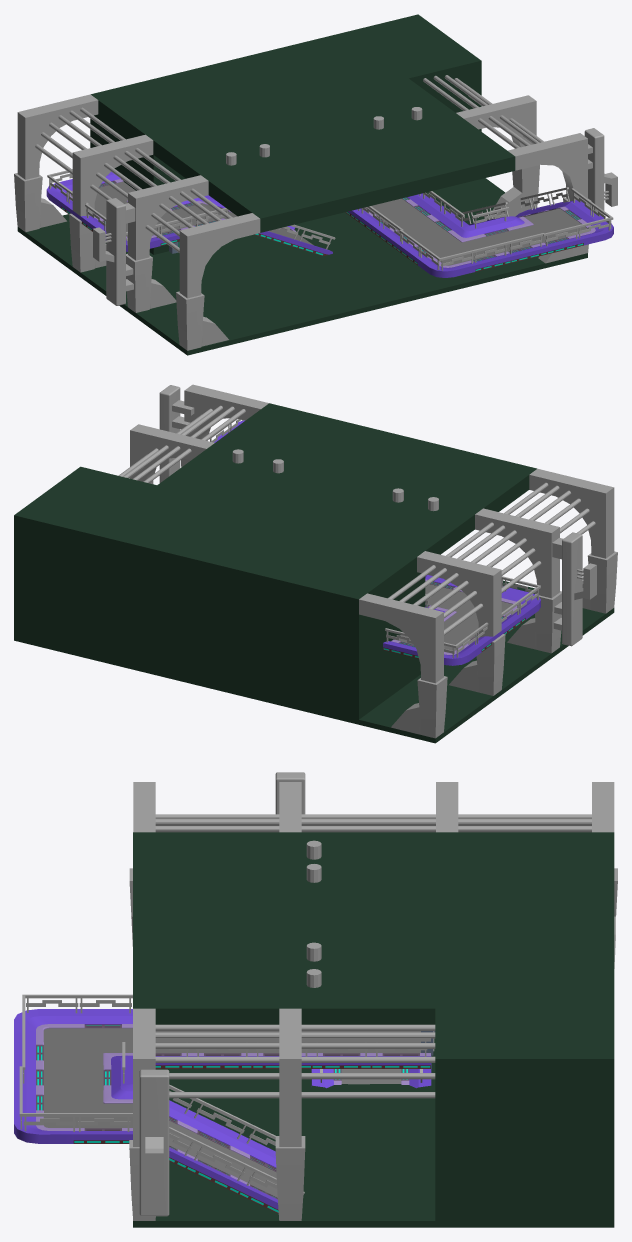
3 views of the same model, one above another, from view 1: azimuth 30°, elevation 25°; view 2: azimuth 150°, elevation 25°; view 3: azimuth 270°, elevation 25° (orthographic). The views are drawn at different scales.
Parts seen in each view (by area): view 1: polySurface5626; view 2: polySurface5626; view 3: polySurface5626.
Part boxes in pixels (x1,y1,x2,y2): polySurface5626: [14, 14, 617, 355]; polySurface5626: [14, 384, 617, 743]; polySurface5626: [14, 772, 617, 1227].
Bounding box in the file's own units: 25.84 × 7.22 × 20.27.
